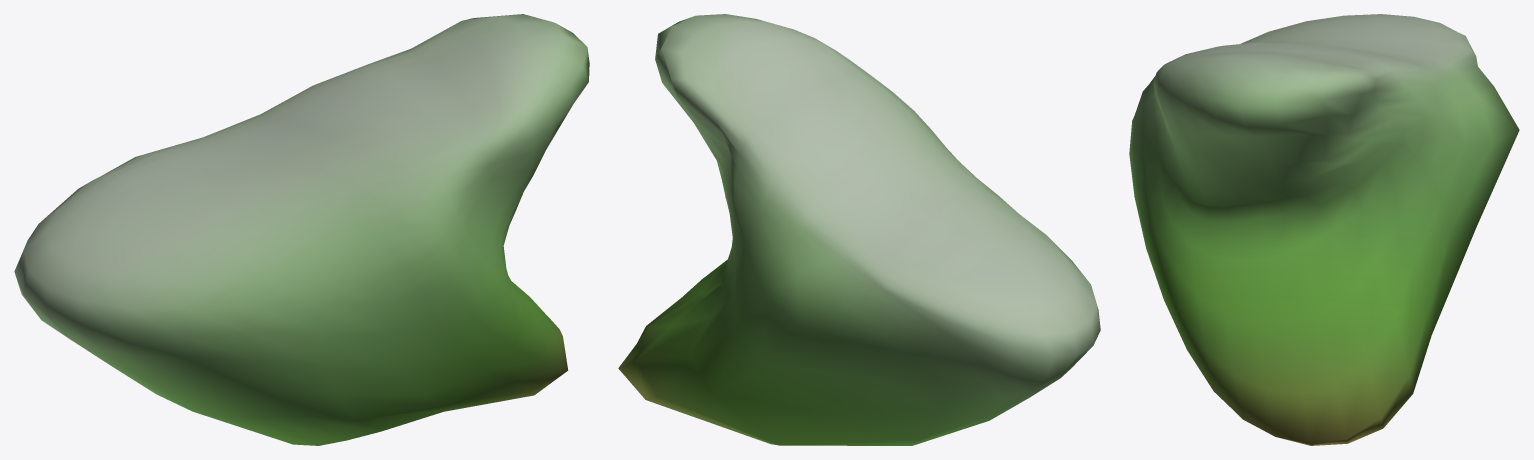
The model's file is Huegel.fbx.
3 renders of one model, left to right at view 1: azimuth 30°, elevation 25°; view 2: azimuth 150°, elevation 25°; view 3: azimuth 270°, elevation 25°, orthographic. The views are drawn at different scales.
Visible parts, largest first — view 1: pCube4; view 2: pCube4; view 3: pCube4.
Boxes of the visible parts, <box> form: pCube4: <box>14,14,589,445</box>; pCube4: <box>618,14,1100,445</box>; pCube4: <box>1129,14,1519,445</box>.
Bounding box in the file's own units: 142 × 103 × 95.42.
